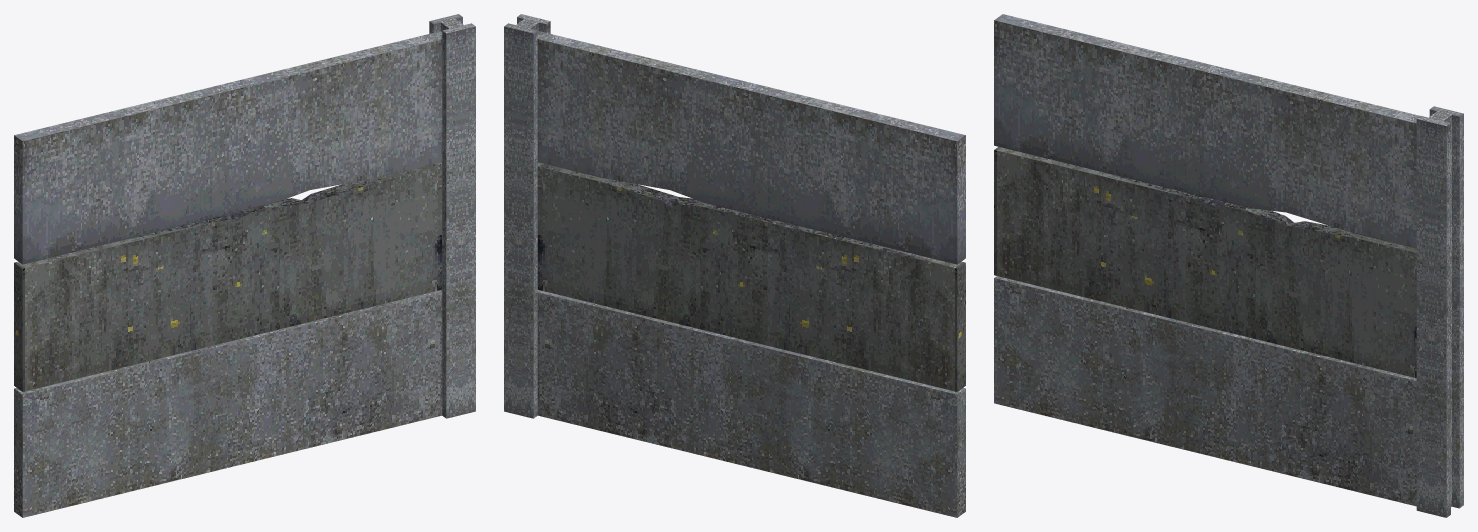
File: plackard_open.glb
The picture shows the model from 3 angles, left to right: view 1: azimuth 30°, elevation 25°; view 2: azimuth 150°, elevation 25°; view 3: azimuth 330°, elevation 25°; orthographic projection.
Visible parts, largest first — view 1: plackard_open; view 2: plackard_open; view 3: plackard_open.
Part boxes in pixels (x1,y1,x2,y2): plackard_open: [14, 14, 475, 517]; plackard_open: [504, 14, 965, 517]; plackard_open: [994, 14, 1463, 517].
Size of the model in its own units: 3.05 by 2.5 by 0.2.
1 material, 1 textured.
